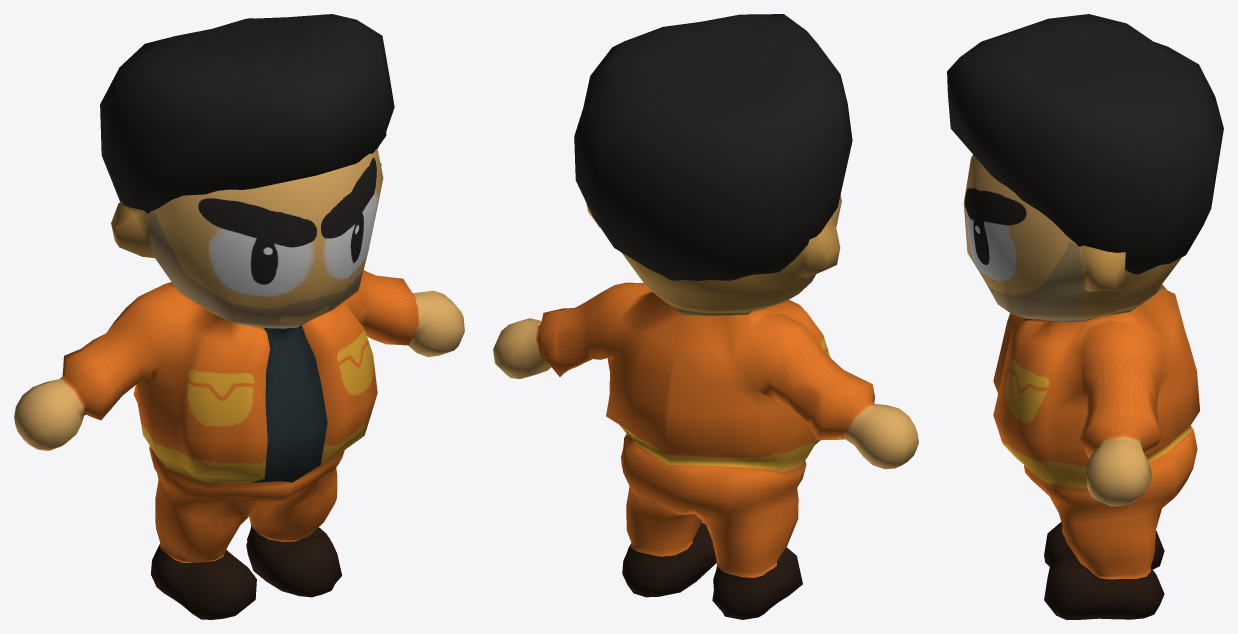
The model's file is Modelo1.fbx_Character04.fbx.
3 views of the same model, side by side, from view 1: azimuth 30°, elevation 25°; view 2: azimuth 150°, elevation 25°; view 3: azimuth 270°, elevation 25° (orthographic). The views are drawn at different scales.
Visible parts, largest first — view 1: Character04; view 2: Character04; view 3: Character04.
Boxes of the visible parts, x1,y1,x2,y2 form: Character04: [14, 14, 464, 619]; Character04: [493, 14, 918, 619]; Character04: [947, 14, 1223, 619].
Bounding box in the file's own units: 83.62 × 103 × 47.63.
